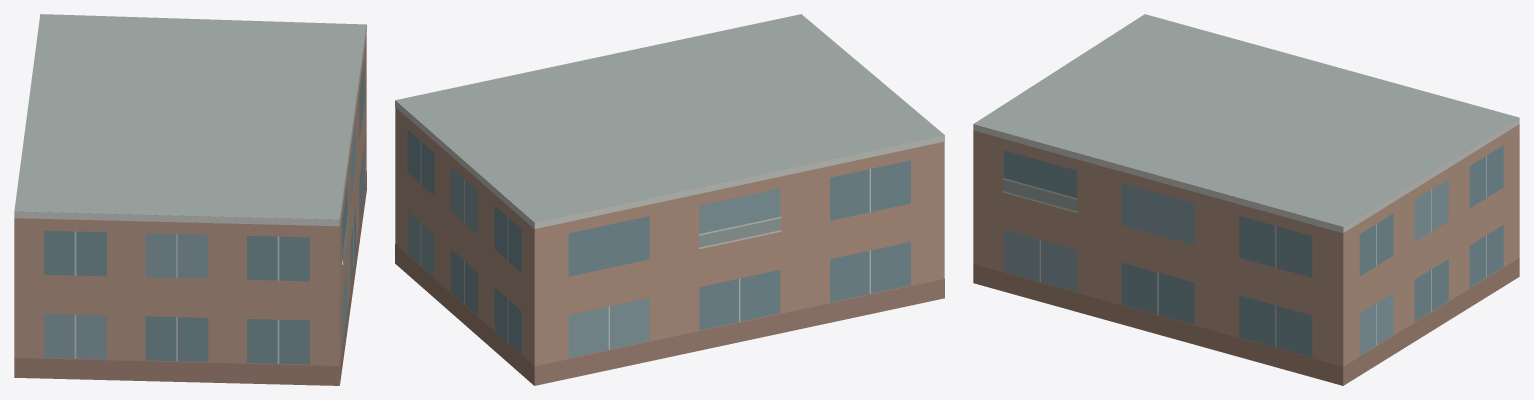
File: survey-upis-32890863.glb
3 renders of one model, left to right at view 1: azimuth 30°, elevation 25°; view 2: azimuth 150°, elevation 25°; view 3: azimuth 270°, elevation 25°, orthographic. The views are drawn at different scales.
Visible parts, largest first — view 1: survey-upis-32890863.tmp; view 2: survey-upis-32890863.tmp; view 3: survey-upis-32890863.tmp.
Boxes of the visible parts, x1,y1,x2,y2 form: survey-upis-32890863.tmp: (14,14,366,385); survey-upis-32890863.tmp: (395,14,944,385); survey-upis-32890863.tmp: (973,14,1519,385).
Size of the model in its own units: 17.52 by 6.1 by 19.01.
